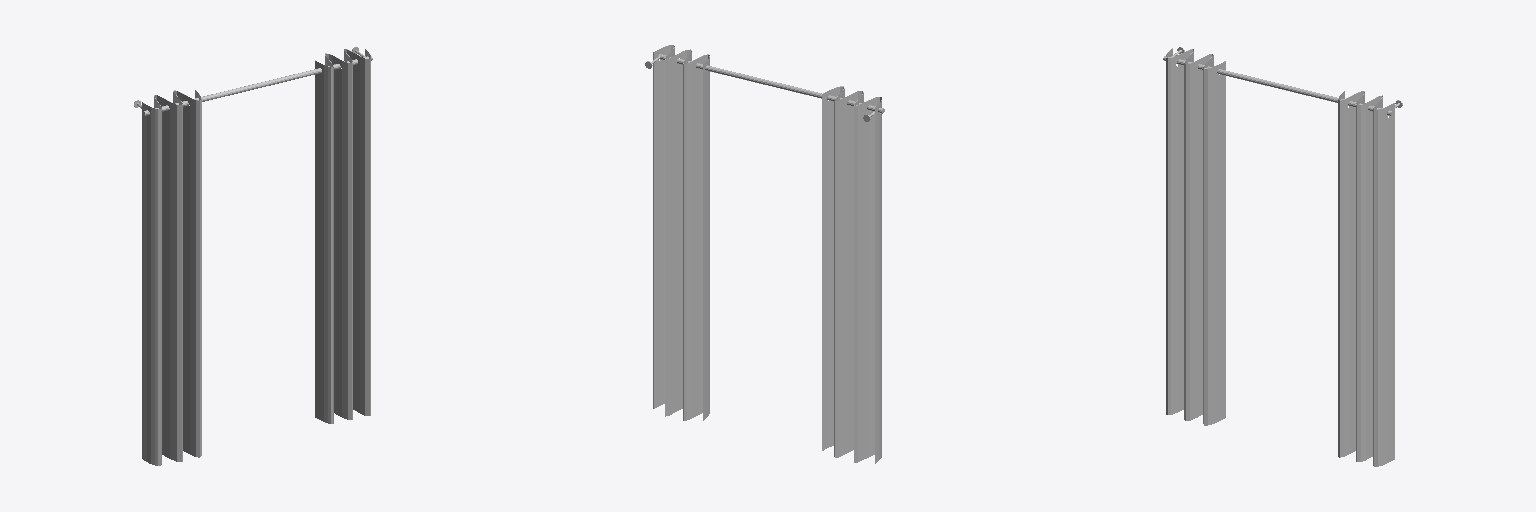
File: curtains.obj
The picture shows the model from 3 angles: view 1: azimuth 30°, elevation 25°; view 2: azimuth 150°, elevation 25°; view 3: azimuth 330°, elevation 25°; orthographic projection.
Visible parts, largest first — view 1: LeftCurtain, RightCurtain, Rod; view 2: LeftCurtain, RightCurtain, Rod; view 3: LeftCurtain, RightCurtain, Rod.
Part boxes in pixels (bbox=[...]): LeftCurtain: bbox=[142, 90, 201, 465]; RightCurtain: bbox=[315, 49, 370, 423]; Rod: bbox=[134, 47, 372, 115]; LeftCurtain: bbox=[822, 86, 881, 463]; RightCurtain: bbox=[653, 45, 709, 420]; Rod: bbox=[645, 54, 884, 121]; LeftCurtain: bbox=[1166, 48, 1225, 425]; RightCurtain: bbox=[1338, 91, 1394, 466]; Rod: bbox=[1163, 47, 1402, 115].
Bounding box in the file's own units: 1.5 × 2.25 × 0.2286.